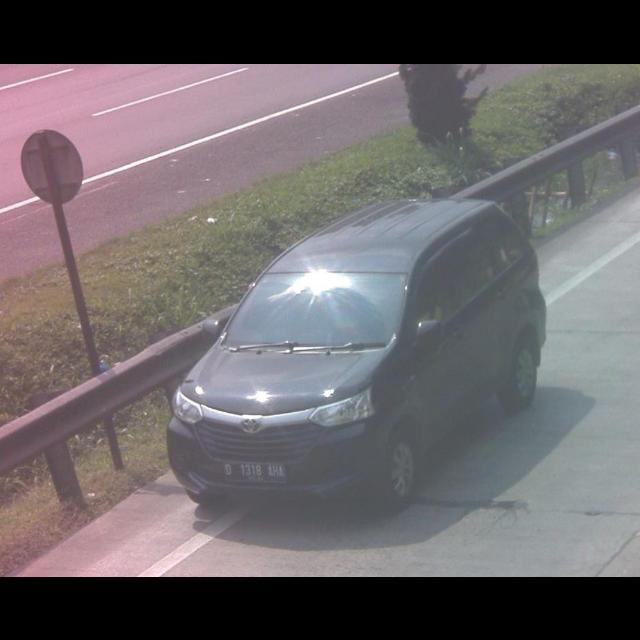plate: (220, 462, 288, 482)
